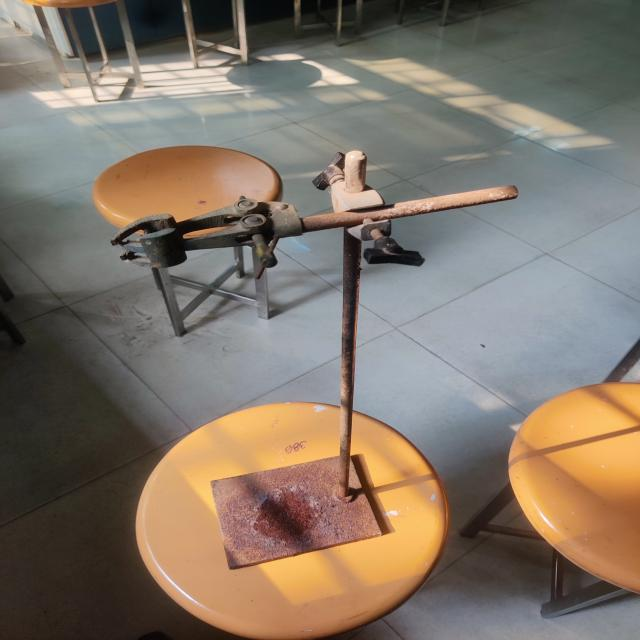Burette_Stands: (97, 143, 529, 595)
